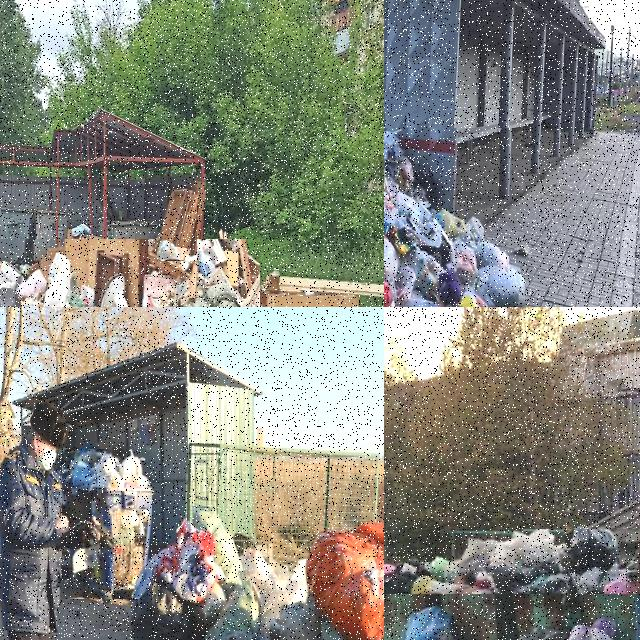lixeira: (123, 533, 383, 639), (384, 129, 527, 306), (384, 528, 629, 602), (0, 239, 262, 306), (63, 450, 154, 601), (268, 273, 383, 306), (157, 187, 198, 262)
